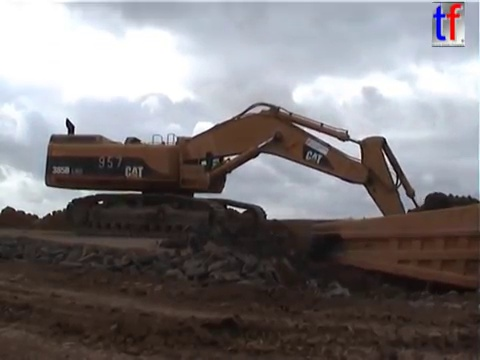excavator: (40, 99, 443, 305)
truck: (307, 198, 480, 294)
